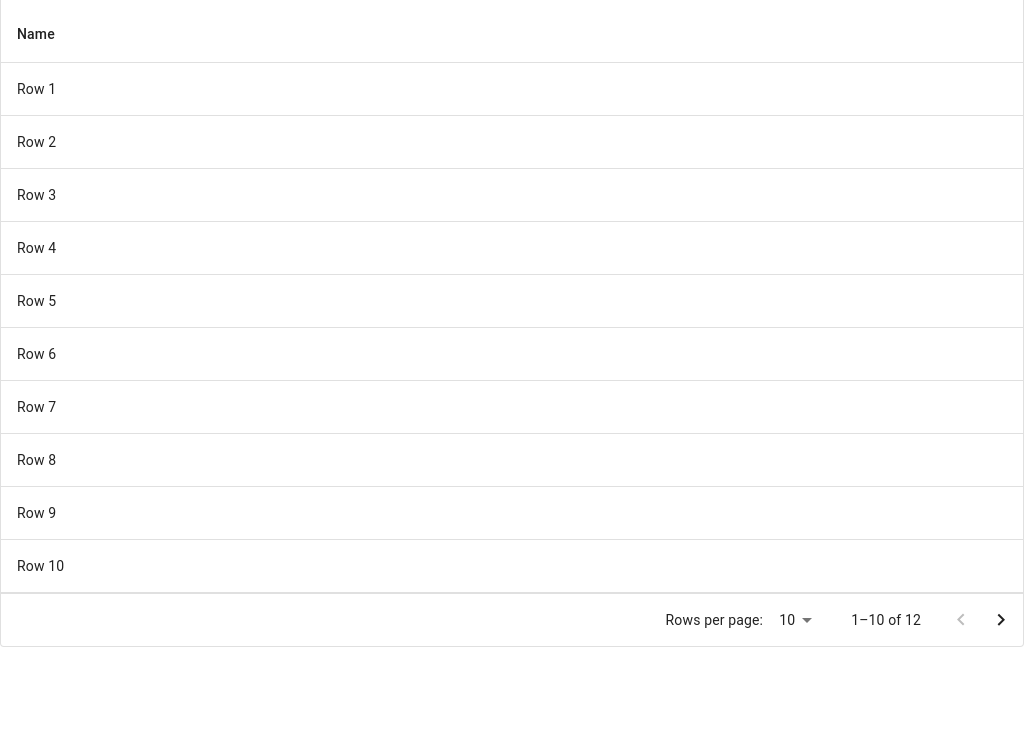
ListTable › keeps pagination controls visible when rows per page exceeds the row count
The image size is (1024, 733).
Click the button named "Go to next page" at (1001, 620), box [981, 600, 1021, 640]
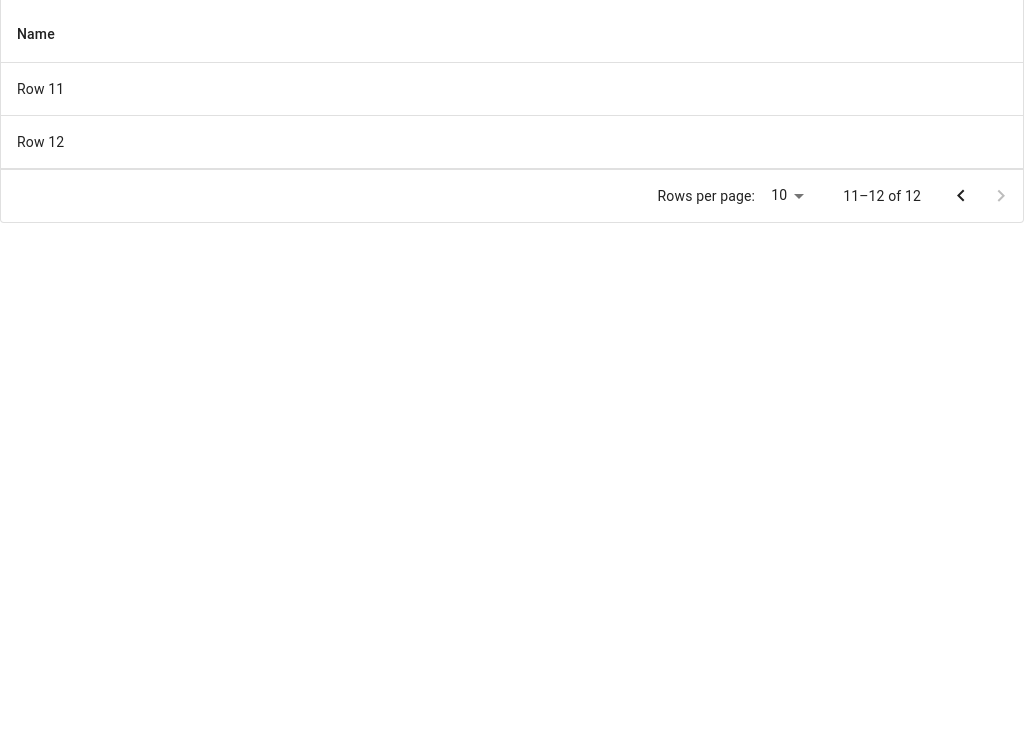
Press the mouse on the dropdown at (779, 196), box [771, 188, 787, 204]
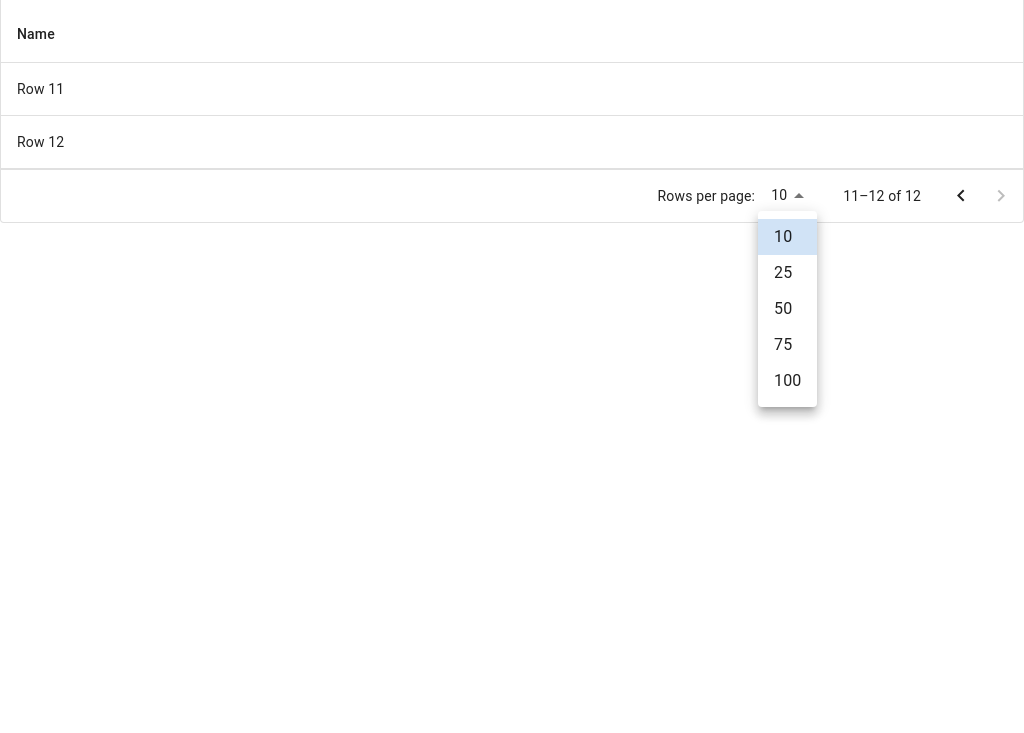
Click the option "25" at (783, 272), box [774, 263, 792, 282]
(page scrolled)
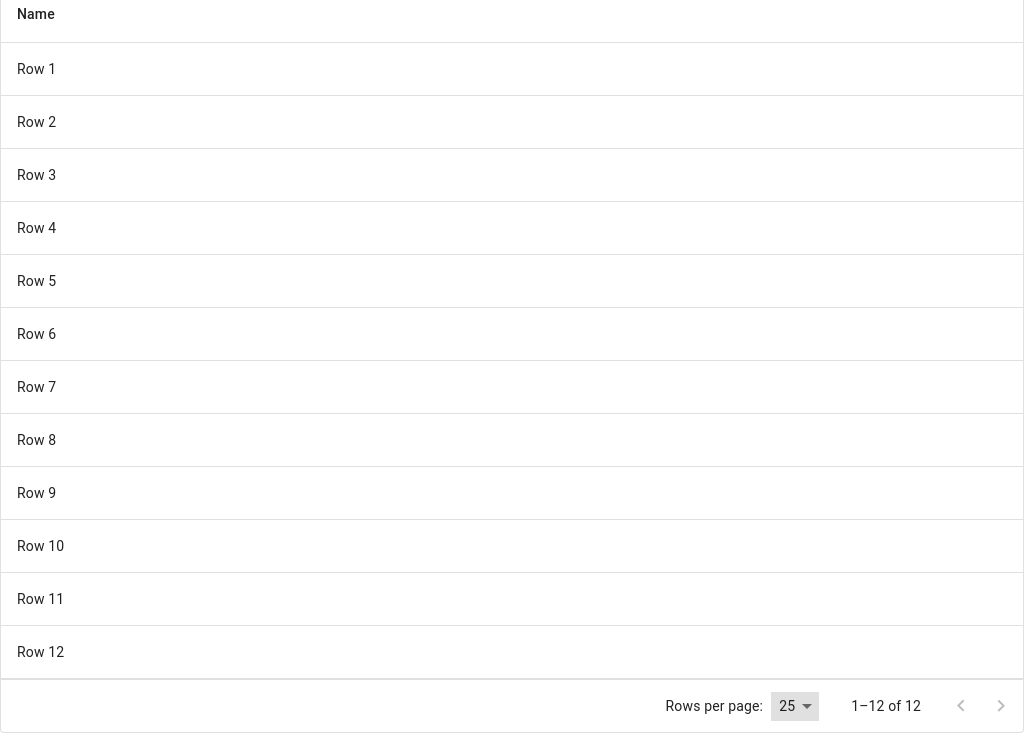
Expected: the dropdown is shown, [771, 692, 819, 721]
Result: the button named "Go to next page" is disabled at [981, 686, 1021, 726]
Result: the text "Row 1" is shown at [17, 61, 56, 77]
